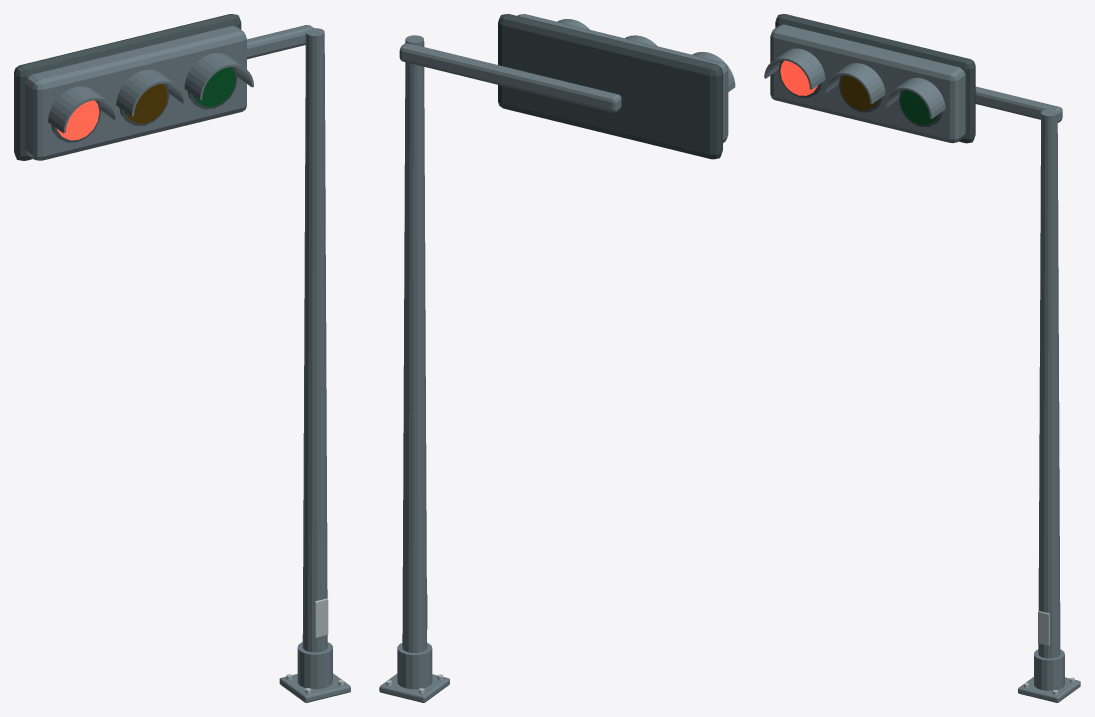
File: SIMUS_Traffic_Light.fbx
The picture shows the model from 3 angles, left to right: view 1: azimuth 30°, elevation 25°; view 2: azimuth 150°, elevation 25°; view 3: azimuth 330°, elevation 25°; orthographic projection. The views are drawn at different scales.
Parts seen in each view (by area): view 1: Signal pole, Signal housing, Signal backplate, Visor Red, Visor Amber, Pole foot, Visor Green, Signal arm, Lens Green, Lens Red, Lens Amber, Mounting plate (+1 smaller); view 2: Signal backplate, Signal pole, Signal arm, Pole foot, Signal housing, Mounting plate; view 3: Signal pole, Signal housing, Signal backplate, Signal arm, Visor Amber, Visor Red, Visor Green, Pole foot, Lens Green, Lens Red, Lens Amber, Mounting plate.
Boxes of the visible parts, <box> form: Signal pole: <box>302,28,327,652</box>; Signal housing: <box>25,26,246,160</box>; Signal backplate: <box>14,14,241,160</box>; Visor Red: <box>48,86,117,133</box>; Visor Amber: <box>116,69,185,116</box>; Pole foot: <box>297,642,332,689</box>; Visor Green: <box>184,53,253,99</box>; Signal arm: <box>247,25,313,59</box>; Lens Green: <box>193,67,235,106</box>; Lens Red: <box>57,100,99,140</box>; Lens Amber: <box>125,83,167,123</box>; Mounting plate: <box>279,673,350,702</box>; Signal backplate: <box>498,14,722,159</box>; Signal pole: <box>402,35,427,652</box>; Signal arm: <box>399,43,621,112</box>; Pole foot: <box>397,642,432,689</box>; Signal housing: <box>517,14,728,142</box>; Mounting plate: <box>379,674,449,702</box>; Signal pole: <box>1038,109,1060,658</box>; Signal housing: <box>770,24,965,143</box>; Signal backplate: <box>775,14,975,143</box>; Signal arm: <box>975,86,1062,122</box>; Visor Amber: <box>824,63,885,104</box>; Visor Red: <box>764,48,825,89</box>; Visor Green: <box>884,77,945,118</box>; Pole foot: <box>1034,649,1064,690</box>; Lens Green: <box>900,90,937,124</box>; Lens Red: <box>780,60,817,95</box>; Lens Amber: <box>840,75,877,110</box>; Mounting plate: <box>1018,677,1080,702</box>.
Size of the model in its own units: 298 by 607 by 78.
